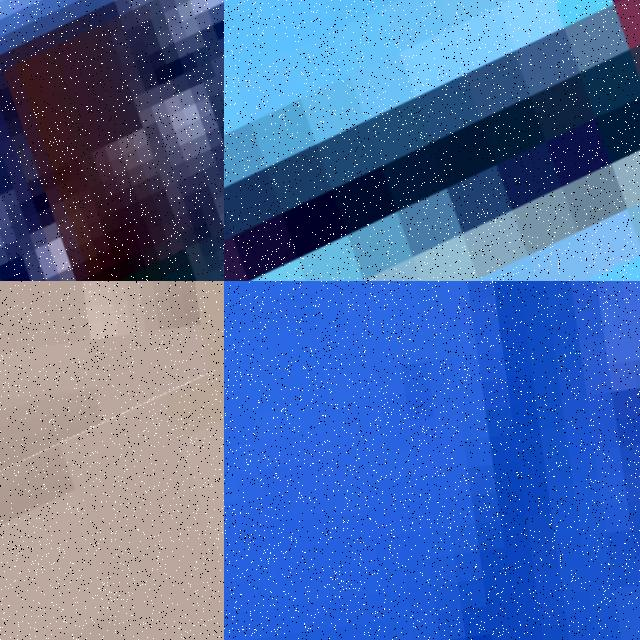drone: (224, 0, 640, 281), (0, 326, 224, 640), (0, 0, 224, 281)
